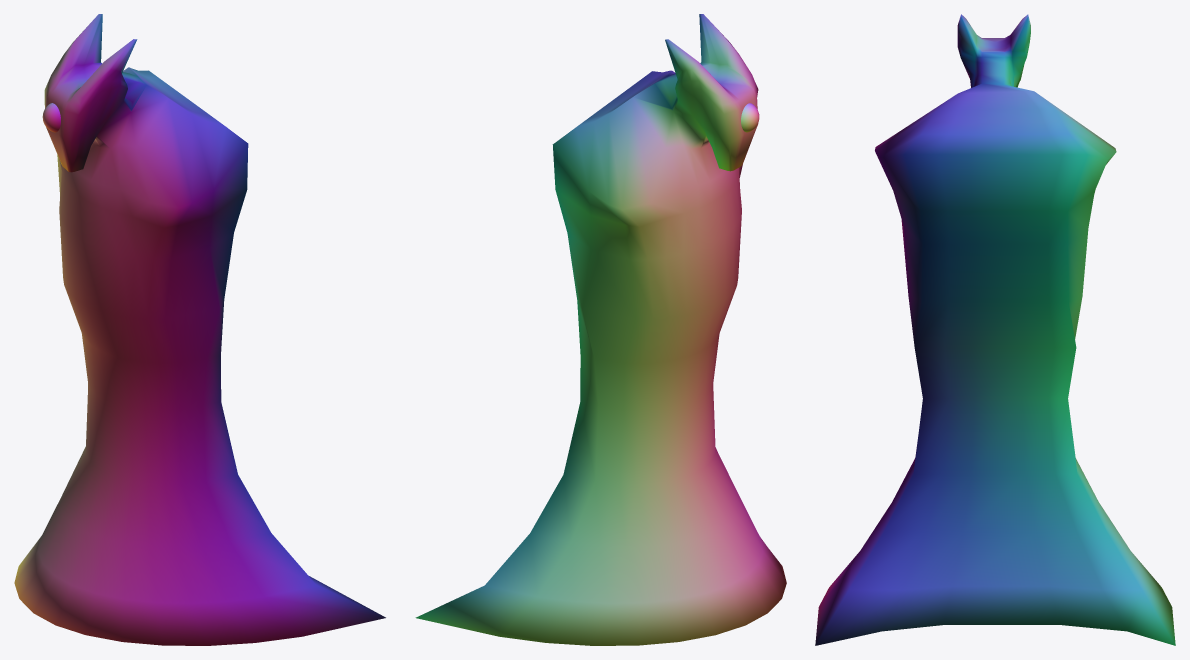
The model's file is Boss1.fbx.
3 renders of one model, left to right at view 1: azimuth 30°, elevation 25°; view 2: azimuth 150°, elevation 25°; view 3: azimuth 270°, elevation 25°, orthographic. The views are drawn at different scales.
Parts seen in each view (by area): view 1: Head; view 2: Head; view 3: Head.
Part boxes in pixels (x1,y1,x2,y2): Head: (14, 14, 385, 645); Head: (415, 14, 786, 645); Head: (815, 14, 1175, 645).
Size of the model in its own units: 836 by 1740 by 1037.
